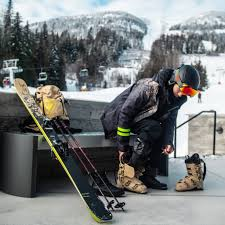skis: (11, 77, 113, 224)
